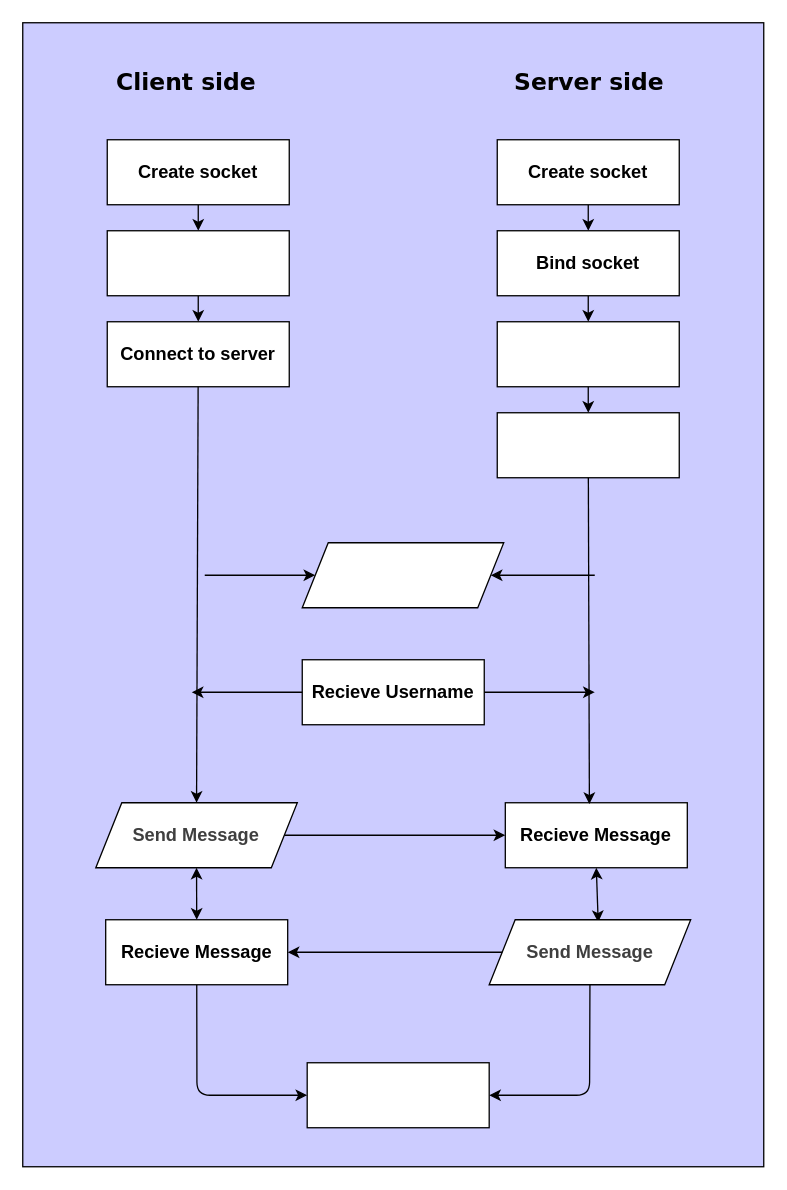
Some shapes in this 787 by 1190 pixel diagram are drawn without their labels. The shapes that lost their labels are listed below. From the top down, each one's centre as x and y in pixels, then its label:
At point 197,262: "Input server IP".
At point 587,353: "Listen for connection".
At point 587,444: "Accept connection".
At point 402,574: "Send Username".
At point 397,1094: "Close connection".
